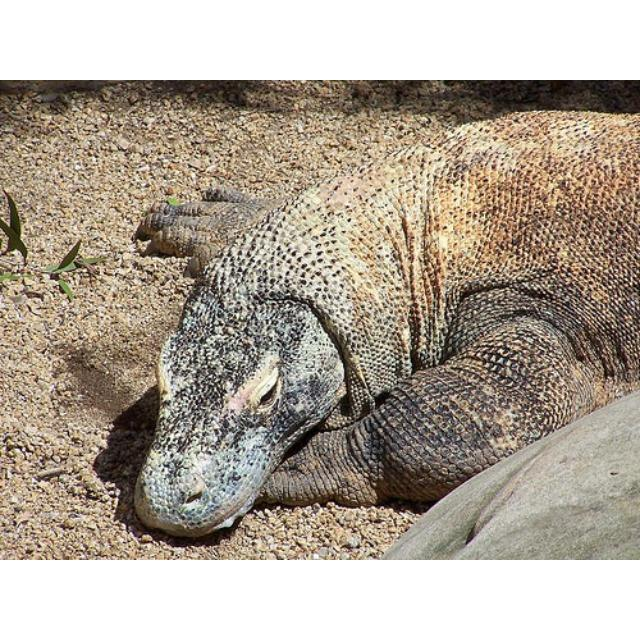KomodoDragon: (125, 104, 637, 543)
